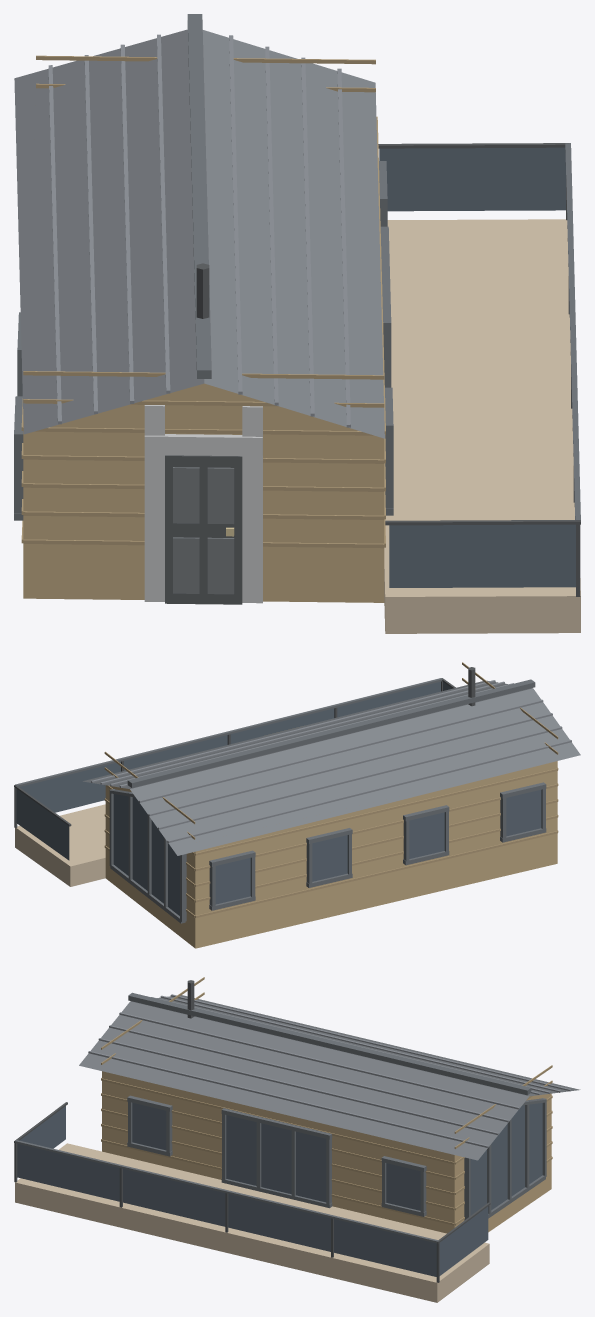
3 renders of one model, top to bottom at view 1: azimuth 30°, elevation 25°; view 2: azimuth 150°, elevation 25°; view 3: azimuth 270°, elevation 25°, orthographic. The views are drawn at different scales.
Parts seen in each view (by area): view 1: slate, larch, door_wood, slate_lt, slate_dk, window_glass_005, door_wood_p, window_glass_006, stone_band, door_dark_p, door_dark, pipe; view 2: slate, door_wood, slate_dk, slate_lt, door_wood_p, larch, window_glass_012, window_glass_004, window_glass_006, window_glass_013, window_glass_014, window_glass_015 (+5 smaller); view 3: slate, door_wood, larch, slate_dk, slate_lt, window_glass_012, door_wood_p, window_glass_001, window_glass_004, window_glass_002, window_glass_003, window_glass_007 (+7 smaller).
Part boxes in pixels (x1,y1,x2,y2): slate: (14, 29, 384, 438); larch: (384, 219, 580, 633); door_wood: (23, 383, 384, 602); slate_lt: (48, 34, 350, 427); slate_dk: (14, 14, 580, 520); window_glass_005: (389, 524, 575, 587); door_wood_p: (21, 55, 385, 548); window_glass_006: (379, 147, 565, 211); stone_band: (144, 405, 262, 603); door_dark_p: (173, 467, 234, 594); door_dark: (165, 455, 242, 604); pipe: (196, 143, 580, 596); slate: (83, 680, 580, 855); door_wood: (105, 761, 557, 948); slate_dk: (15, 678, 546, 923); slate_lt: (91, 680, 571, 842); door_wood_p: (104, 662, 558, 917); larch: (15, 804, 105, 886); window_glass_012: (113, 794, 179, 915); window_glass_004: (19, 761, 120, 812); window_glass_006: (16, 789, 69, 860); window_glass_013: (215, 858, 250, 904); window_glass_014: (312, 835, 347, 881); window_glass_015: (409, 812, 444, 858); slate: (79, 995, 580, 1160); door_wood: (102, 1071, 551, 1233); larch: (15, 1143, 489, 1302); slate_dk: (15, 992, 546, 1243); slate_lt: (88, 994, 571, 1147); window_glass_012: (470, 1103, 542, 1215); door_wood_p: (101, 977, 552, 1225); window_glass_001: (17, 1143, 119, 1201); window_glass_004: (334, 1219, 436, 1276); window_glass_002: (123, 1169, 225, 1226); window_glass_003: (228, 1194, 330, 1251); window_glass_007: (226, 1115, 256, 1185).
Size of the model in its own units: 11.09 by 4.07 by 12.79.
